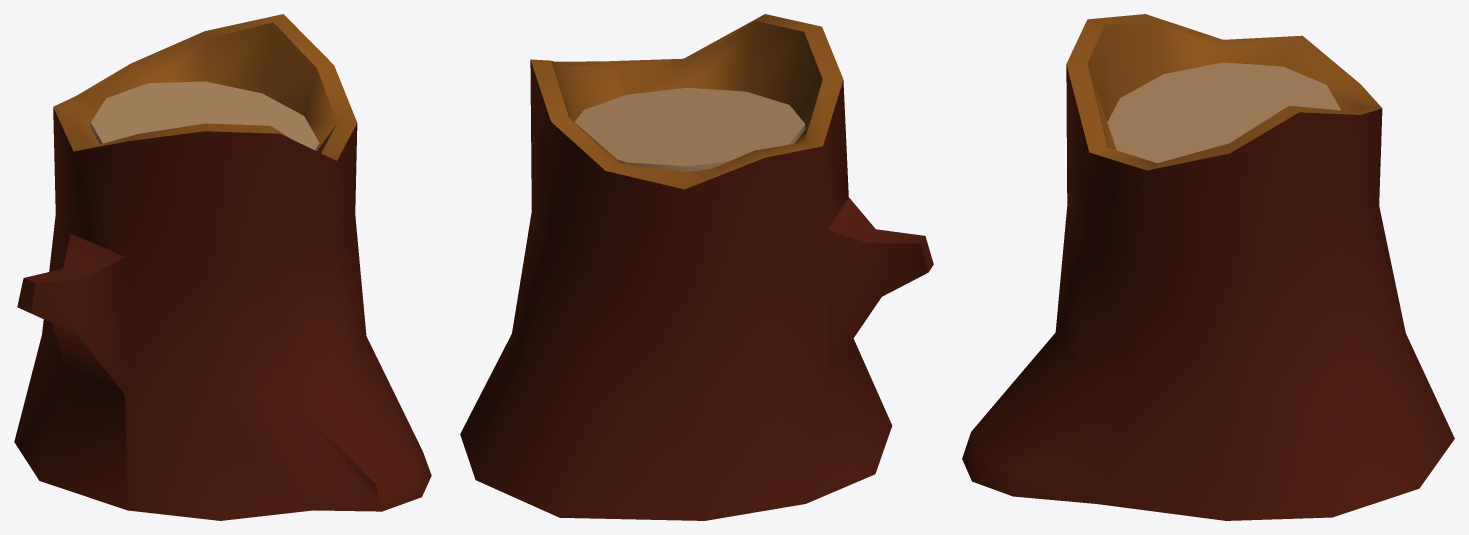
File: Trestump_3.fbx
3 views of the same model, side by side, from view 1: azimuth 30°, elevation 25°; view 2: azimuth 150°, elevation 25°; view 3: azimuth 270°, elevation 25° (orthographic). The views are drawn at different scales.
Parts seen in each view (by area): view 1: Tree_stump_3; view 2: Tree_stump_3; view 3: Tree_stump_3.
Boxes of the visible parts, x1,y1,x2,y2 form: Tree_stump_3: (14,14,431,520); Tree_stump_3: (460,14,933,520); Tree_stump_3: (962,14,1454,520).
Bounding box in the file's own units: 0.8489 × 0.7694 × 0.9044.
